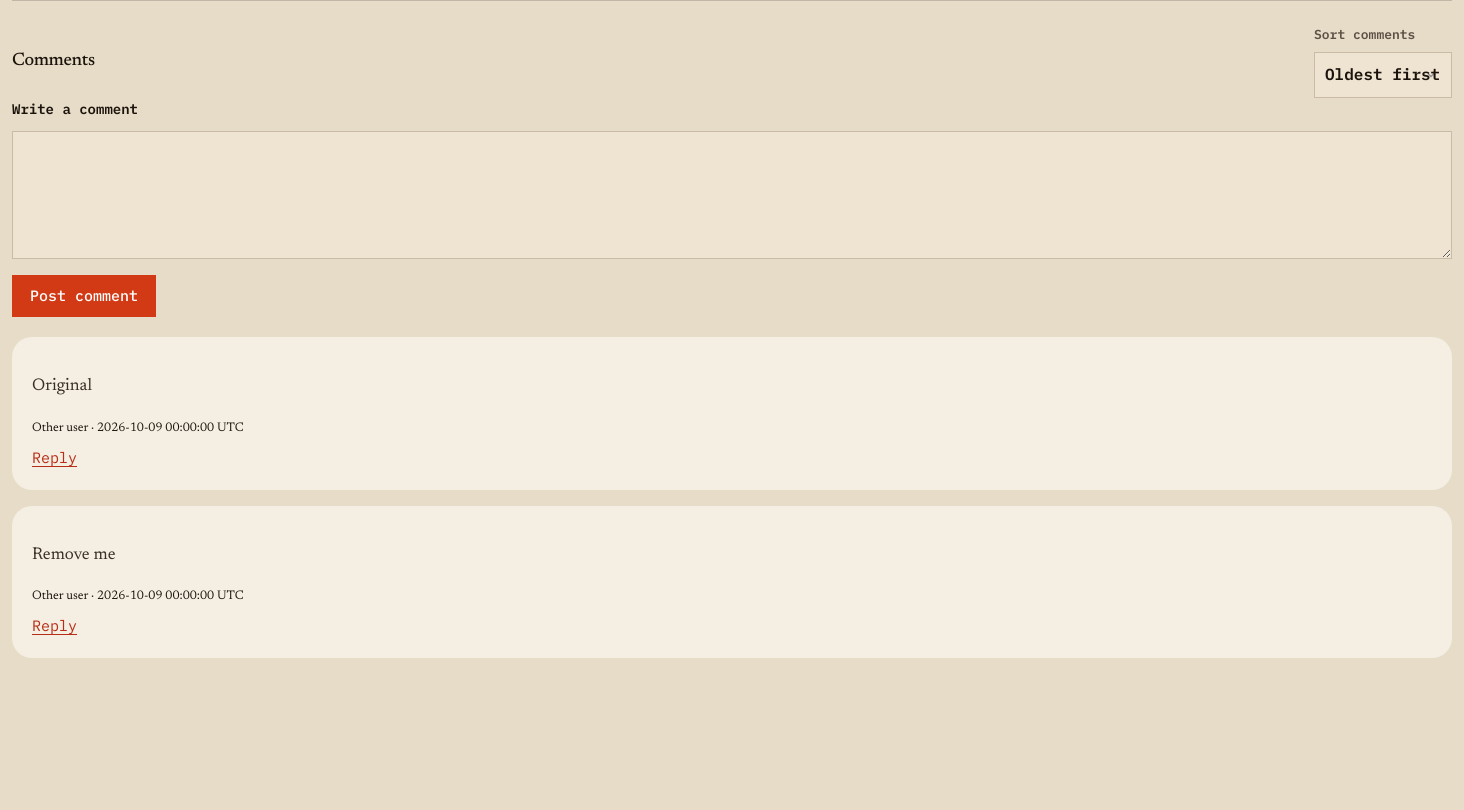
Test: updates another user's edits, deletions and new comments without clearing the typed comment
This screenshot has width=1464, height=810.
Check: the text "Original" is shown, box [32,378,92,395]
Type "My unfinished thought" into the text box labelled "Write a comment" at [732, 195], box [12,131,1452,259]
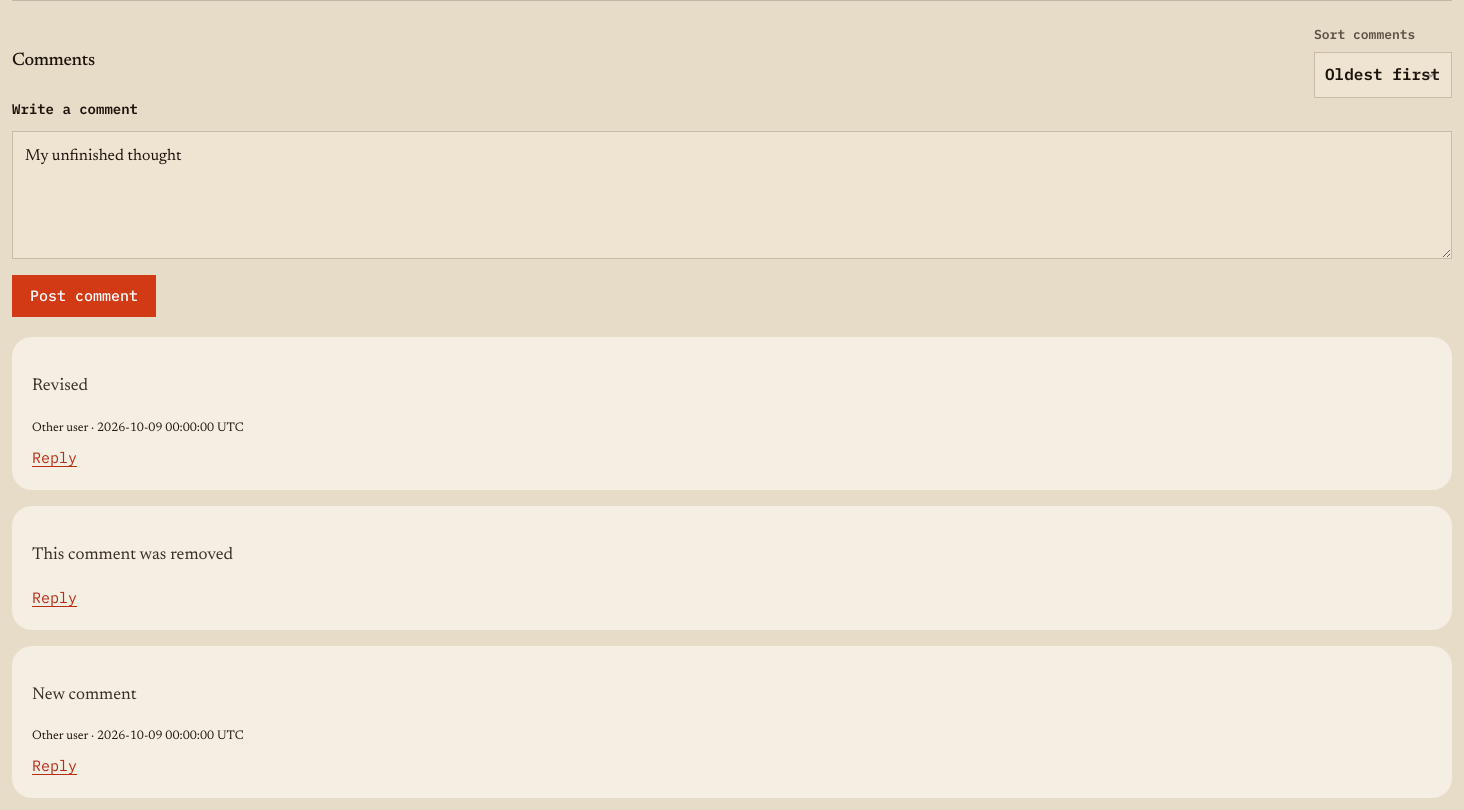
Check: the text "Revised" is shown, box [32,378,88,395]
Check: the text "New comment" is shown, box [32,687,137,704]
Check: the text "This comment was removed" is shown, box [32,546,233,564]
